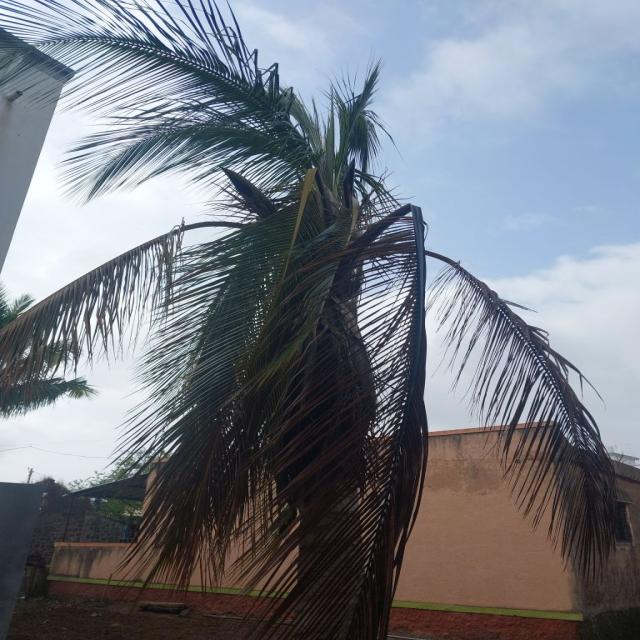bud root dropping: (3, 0, 615, 640)
